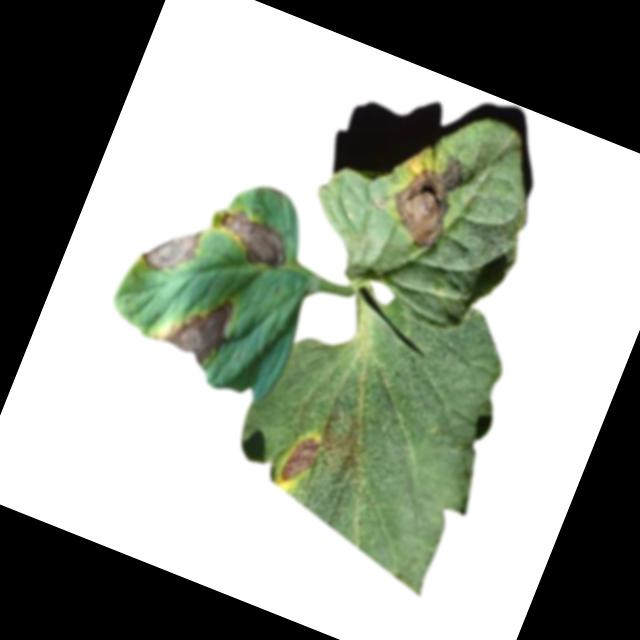Early_blight: (378, 143, 475, 258), (159, 284, 238, 371), (206, 201, 297, 276), (136, 213, 205, 282), (276, 429, 323, 489)
